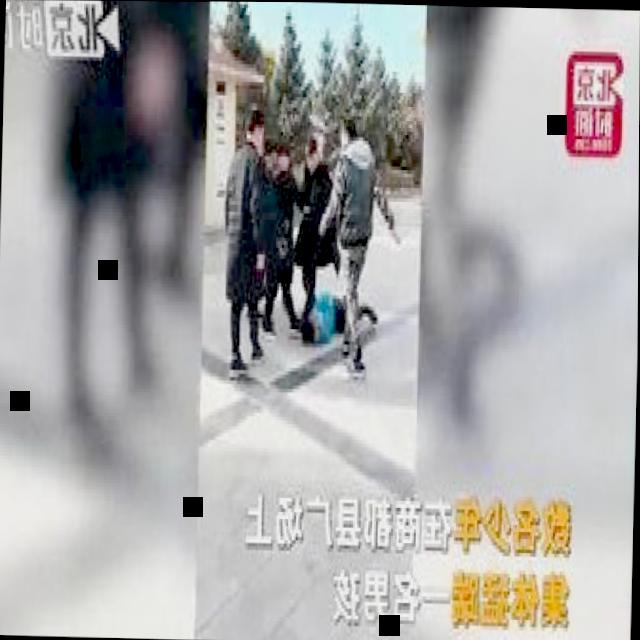Fall-Detected: (287, 269, 385, 355)
